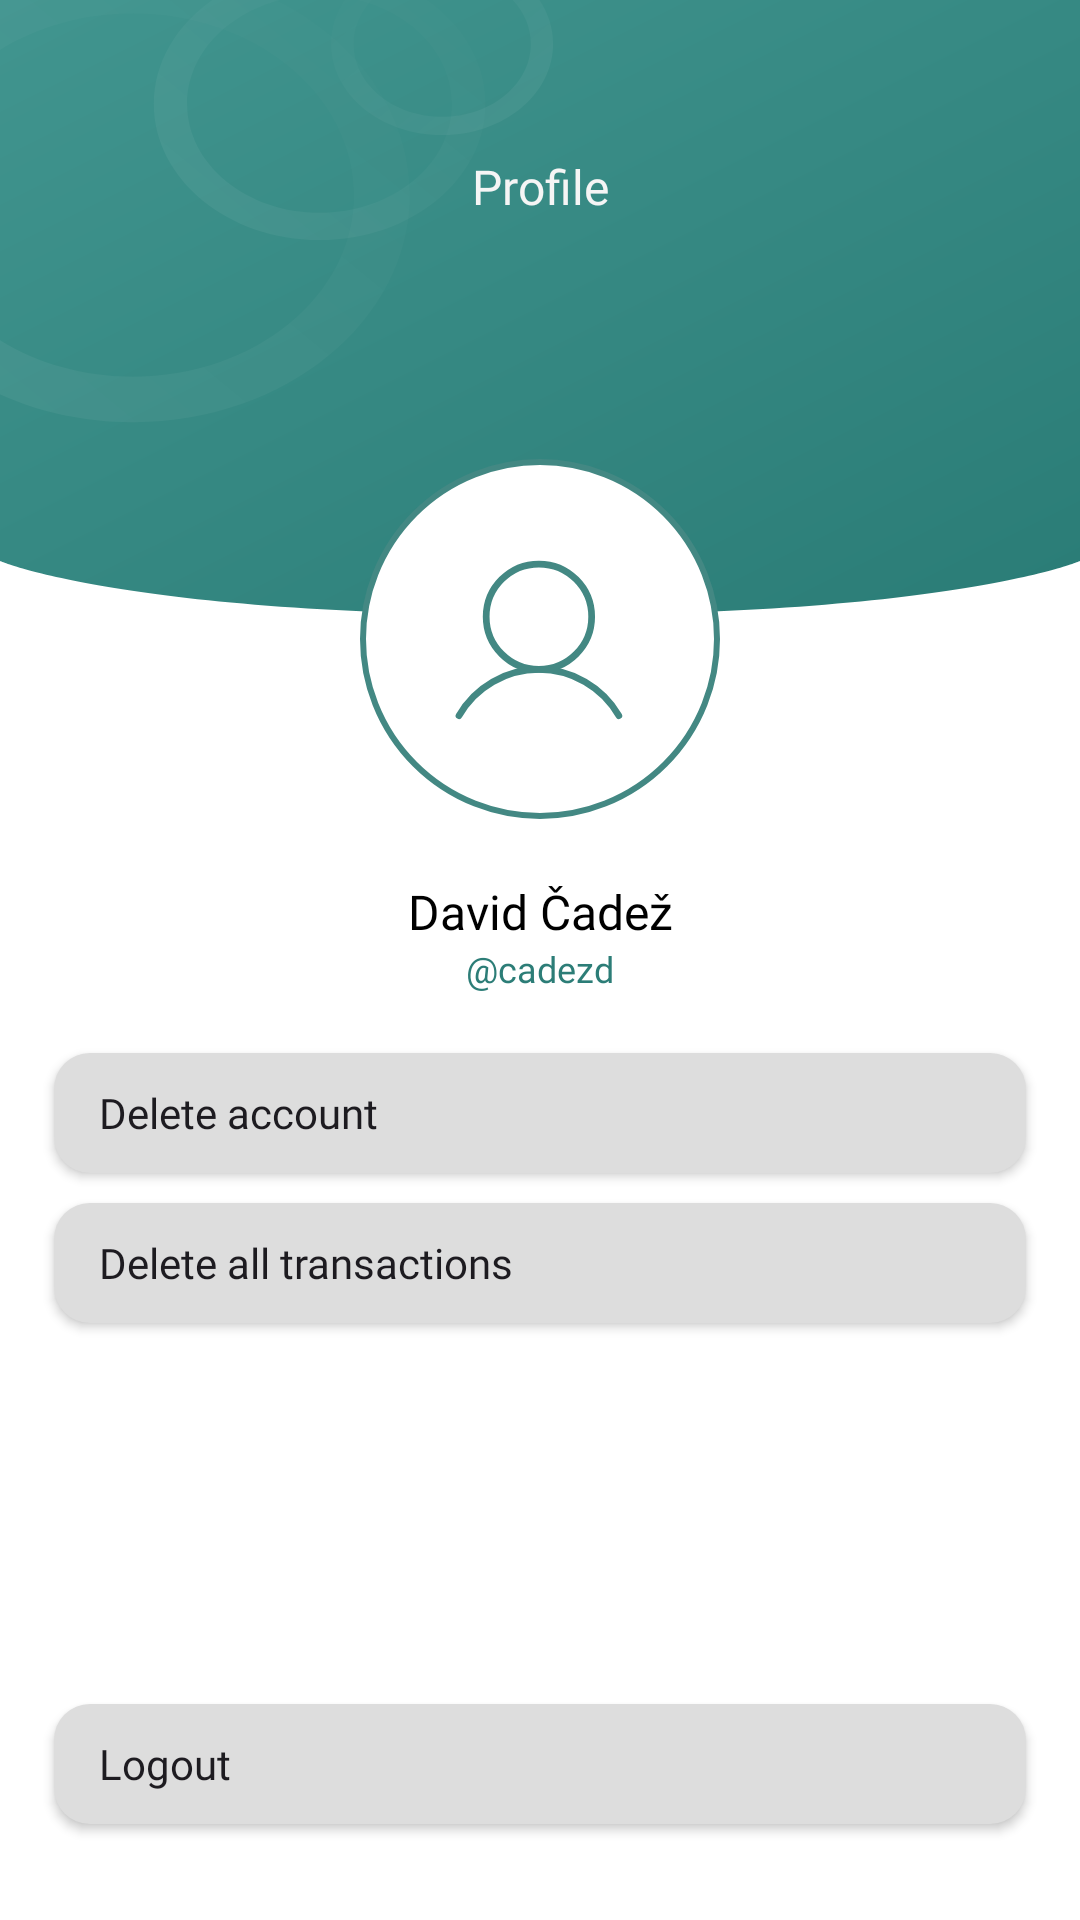

Screen size 1080 × 1920. Icon name, then its center in pixels as point (x, y):
profile picture: point (540, 639)
